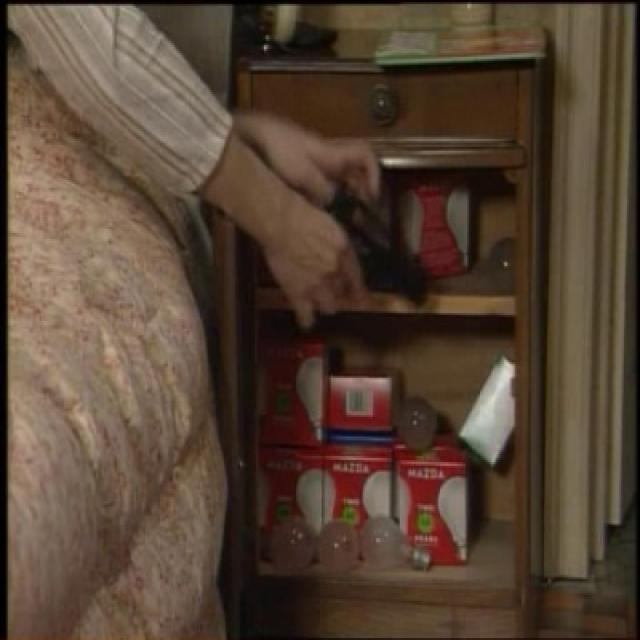weapons: (308, 174, 438, 324)
